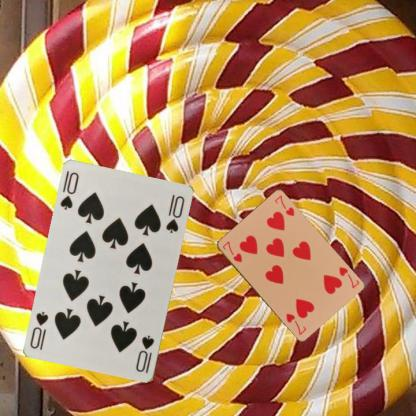10s: (133, 333, 156, 375), (58, 170, 80, 211)
7h: (336, 264, 361, 290), (220, 238, 243, 263)
